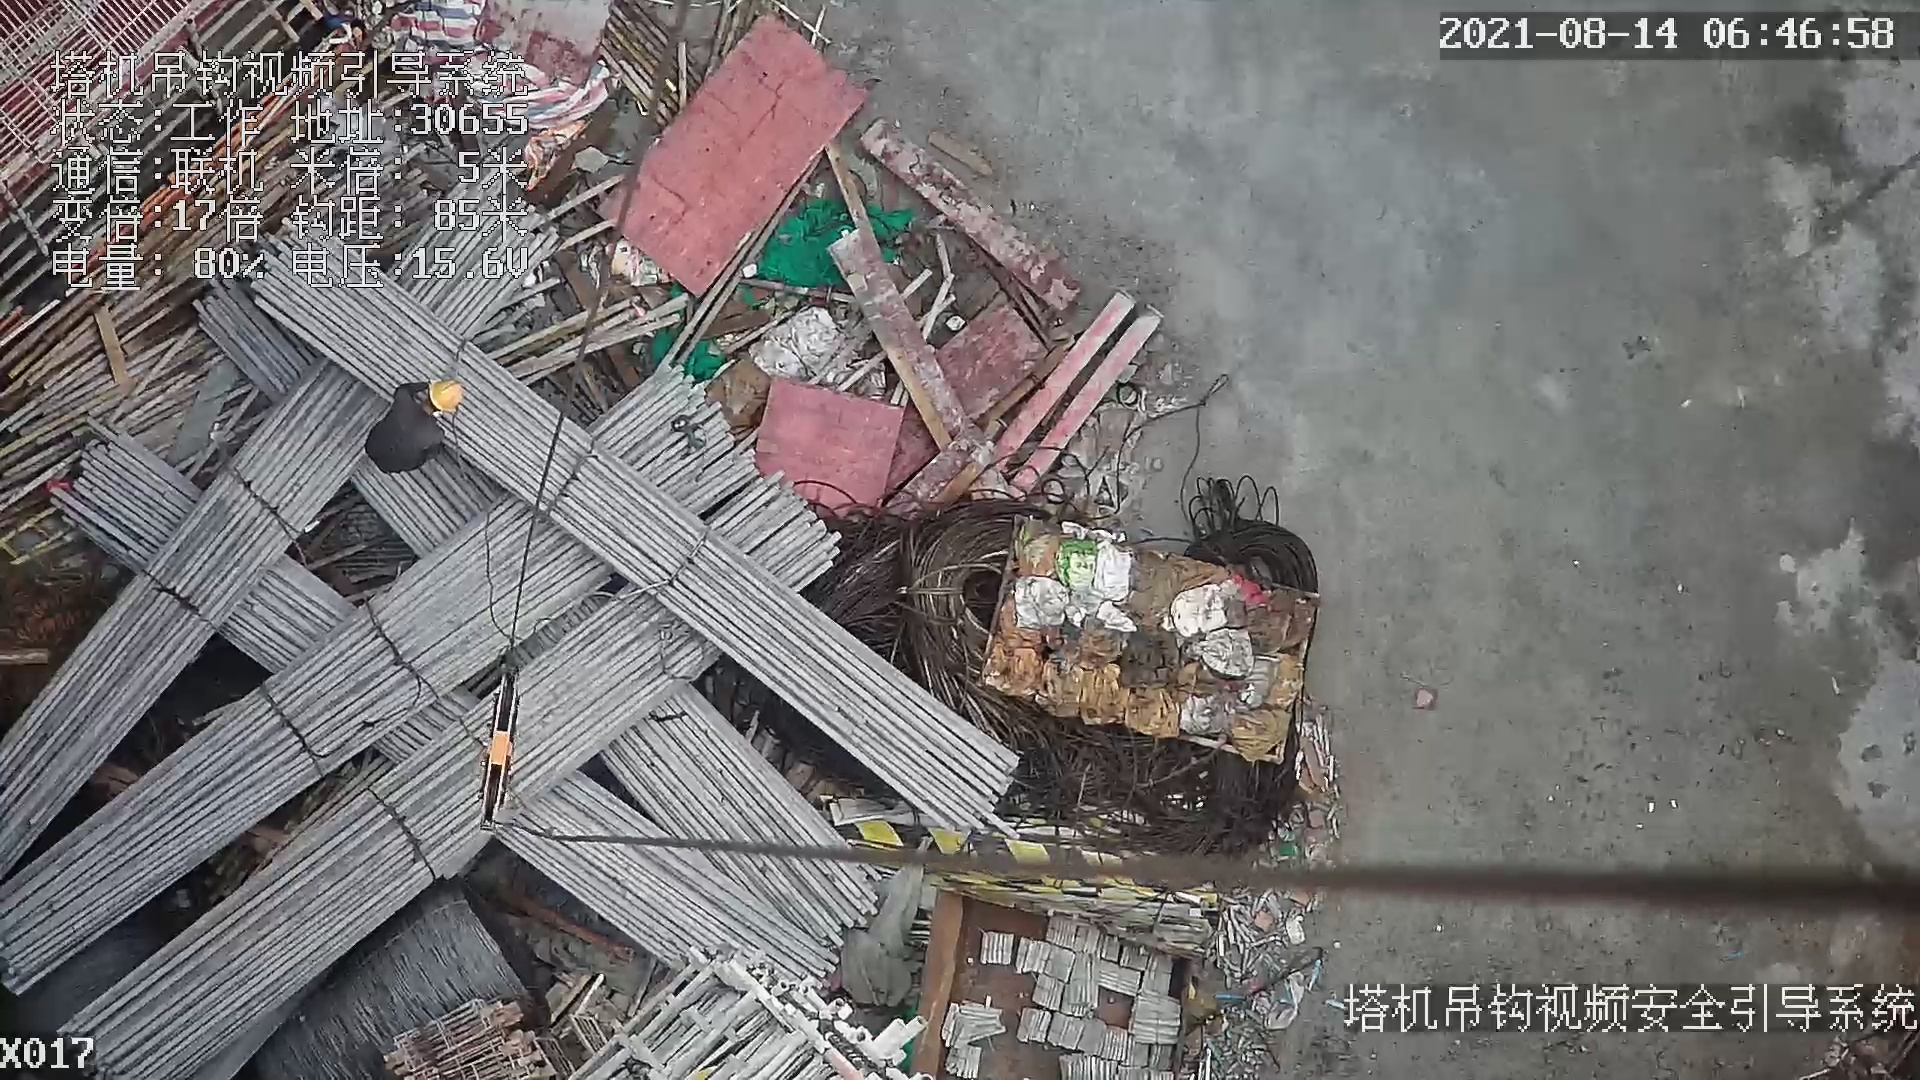board: (591, 11, 866, 295)
helmet: (432, 380, 475, 422)
hook: (463, 660, 526, 839)
person: (364, 371, 469, 485)
